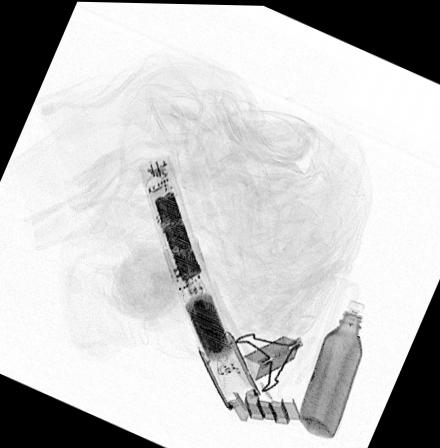Baton: (136, 152, 260, 411)
